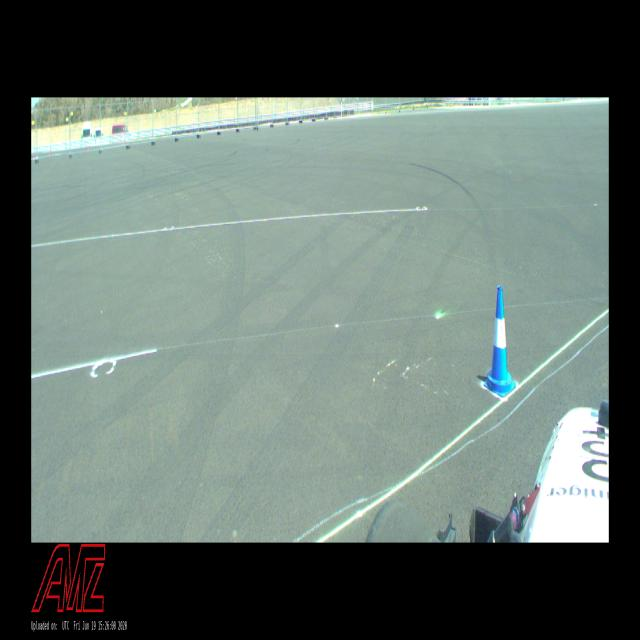blue_cone: (483, 286, 516, 396)
